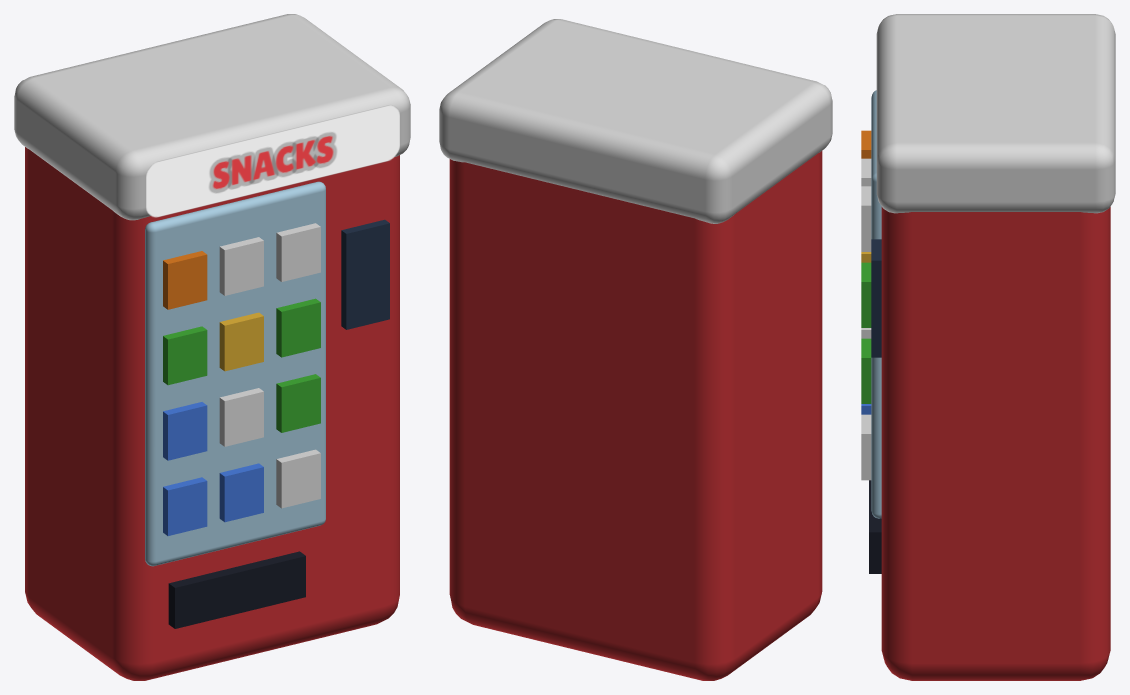
Rendered from vending.glb.
3 renders of one model, left to right at view 1: azimuth 30°, elevation 25°; view 2: azimuth 150°, elevation 25°; view 3: azimuth 270°, elevation 25°, orthographic.
Parts seen in each view (by area): view 1: Vending; view 2: Vending; view 3: Vending.
Part boxes in pixels (x1=…): Vending: x1=14, y1=14, x2=410, y2=680; Vending: x1=439, y1=19, x2=832, y2=680; Vending: x1=861, y1=14, x2=1115, y2=680.
Bounding box in the file's own units: 1.34 × 2.35 × 1.
2 materials, 1 textured.
